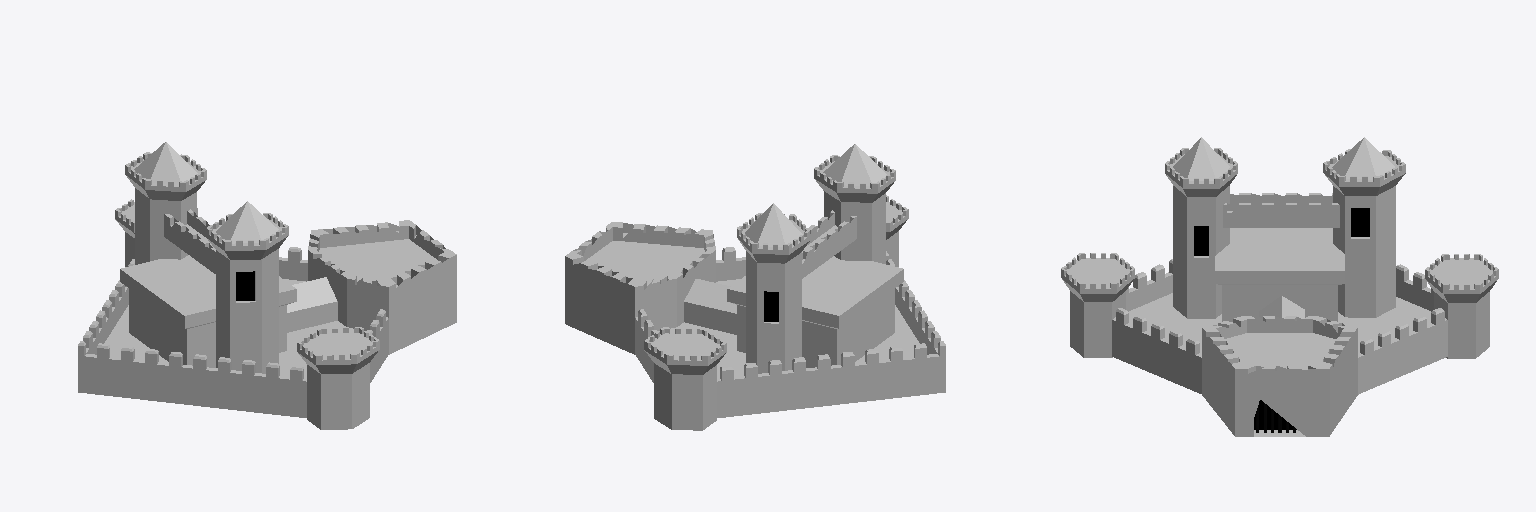
File: Castle.obj
3 renders of one model, left to right at view 1: azimuth 30°, elevation 25°; view 2: azimuth 150°, elevation 25°; view 3: azimuth 270°, elevation 25°, orthographic.
Parts seen in each view (by area): view 1: Castle; view 2: Castle; view 3: Castle.
Part boxes in pixels (x1,y1,x2,y2): Castle: (78,142,456,429); Castle: (565,144,945,430); Castle: (1061,137,1498,436).
Bounding box in the file's own units: 111 × 57.12 × 118.